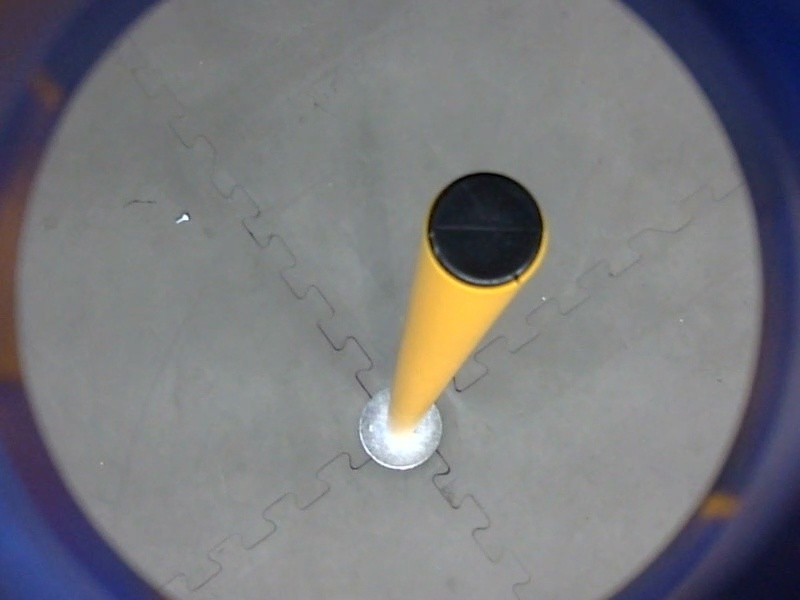tip: (419, 165, 554, 298)
